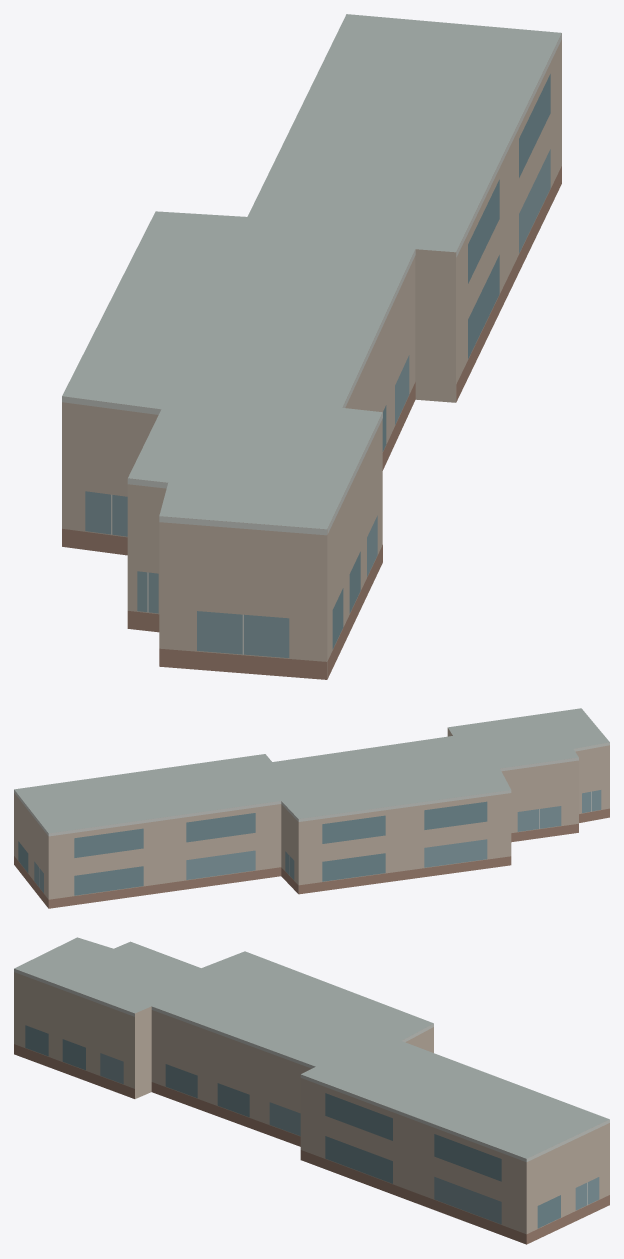
Rendered from survey-upis-32713183.glb.
The picture shows the model from 3 angles, top to bottom: view 1: azimuth 30°, elevation 25°; view 2: azimuth 150°, elevation 25°; view 3: azimuth 270°, elevation 25°; orthographic projection. The views are drawn at different scales.
Parts seen in each view (by area): view 1: survey-upis-32713183.tmp; view 2: survey-upis-32713183.tmp; view 3: survey-upis-32713183.tmp.
Part boxes in pixels (left/top/right/bottom): survey-upis-32713183.tmp: left=62, top=14, right=561, bottom=679; survey-upis-32713183.tmp: left=14, top=708, right=609, bottom=908; survey-upis-32713183.tmp: left=14, top=937, right=609, bottom=1244.
Bounding box in the file's own units: 33.82 × 6.1 × 38.44.
